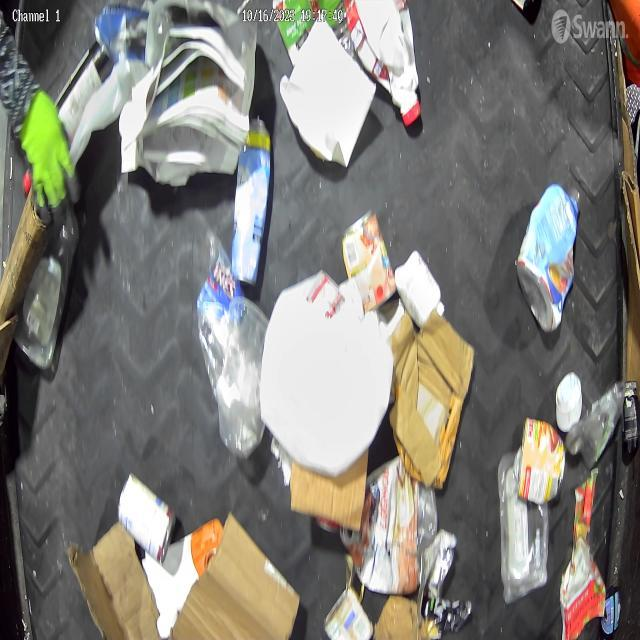can: (230, 114, 272, 285), (341, 206, 398, 312), (116, 472, 176, 562), (514, 414, 570, 509), (325, 583, 375, 640)
milk_jug: (260, 270, 394, 480)
non_white_jug: (344, 0, 423, 128)
plastic_bottle: (14, 207, 81, 370)
